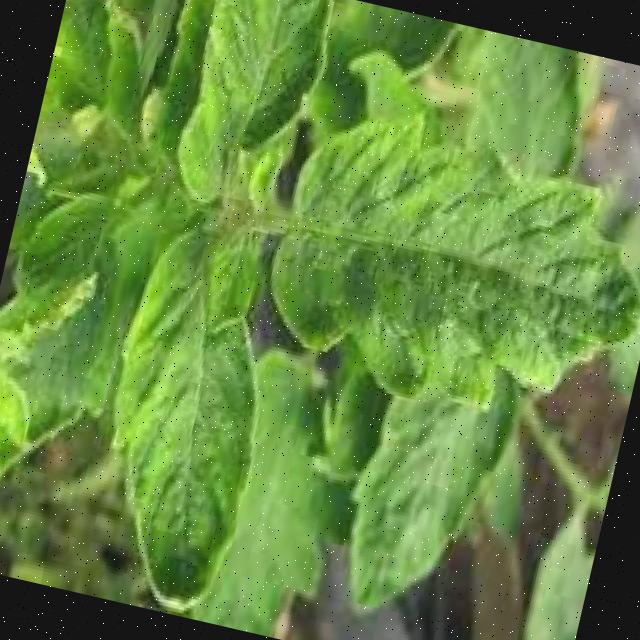leaf curl: (0, 0, 346, 613), (275, 64, 640, 472)
